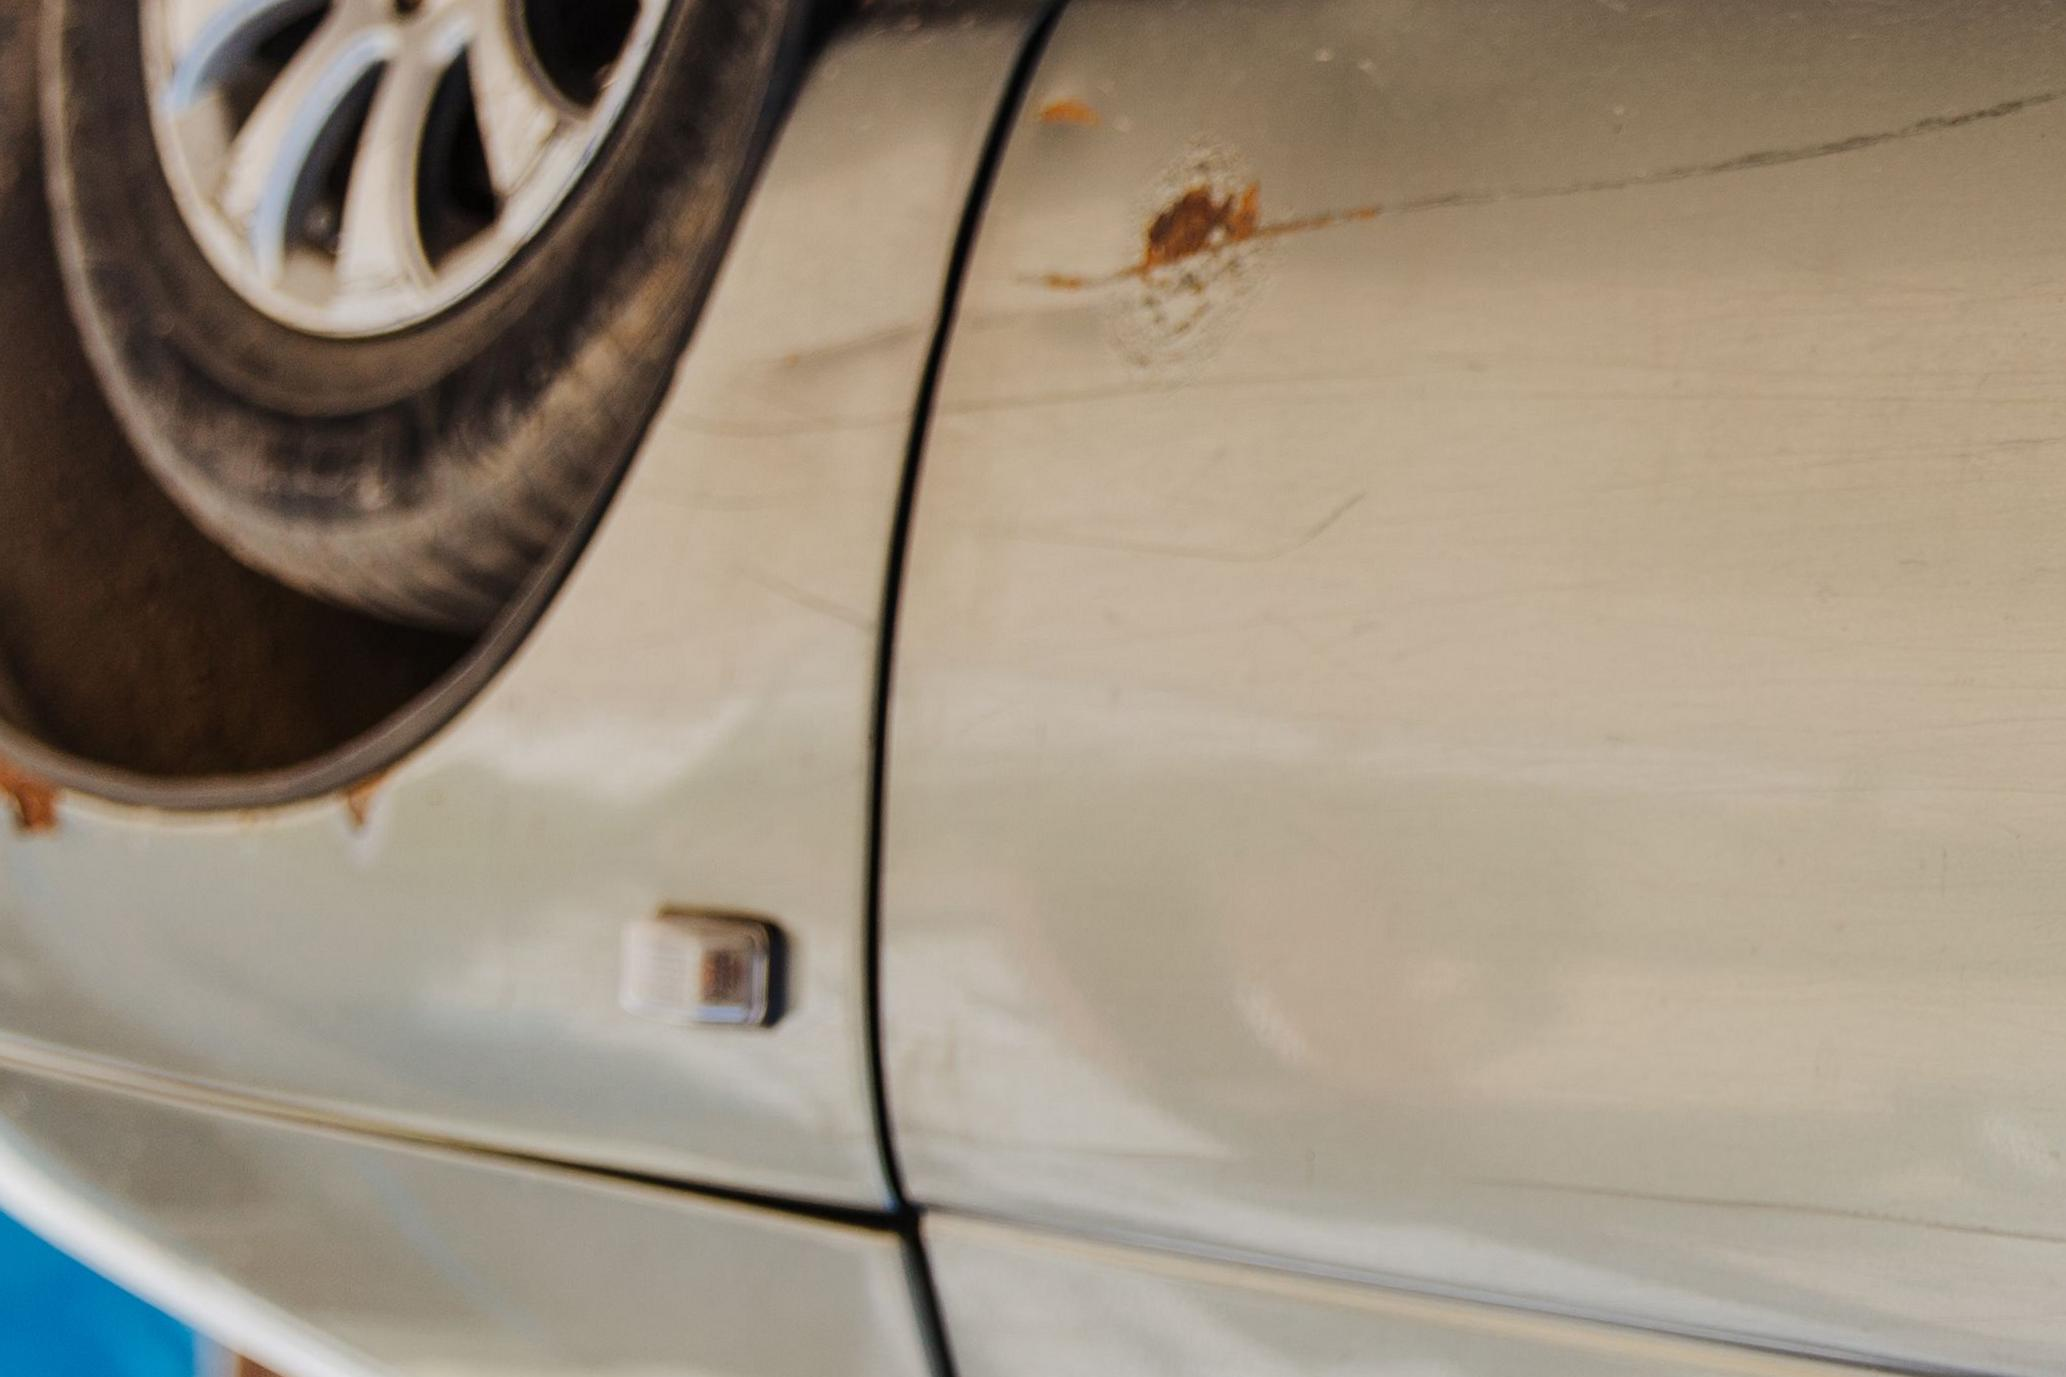rust: (1081, 200, 1327, 284), (1031, 81, 1140, 138)
